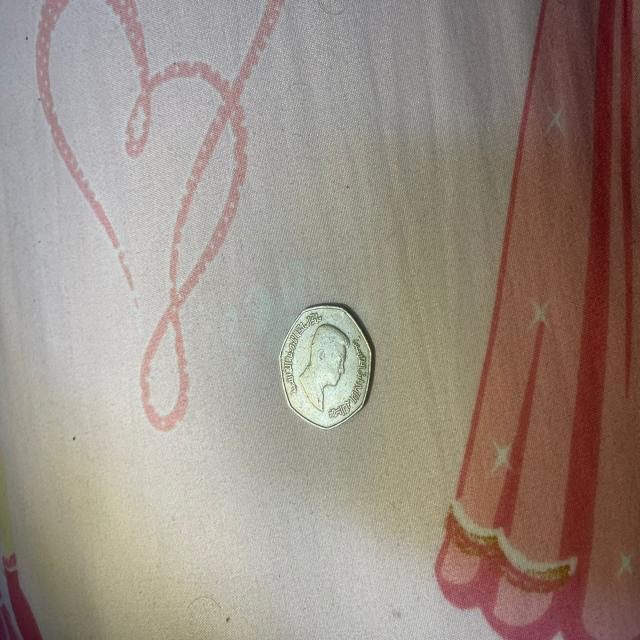25-coins: (278, 302, 376, 429)
